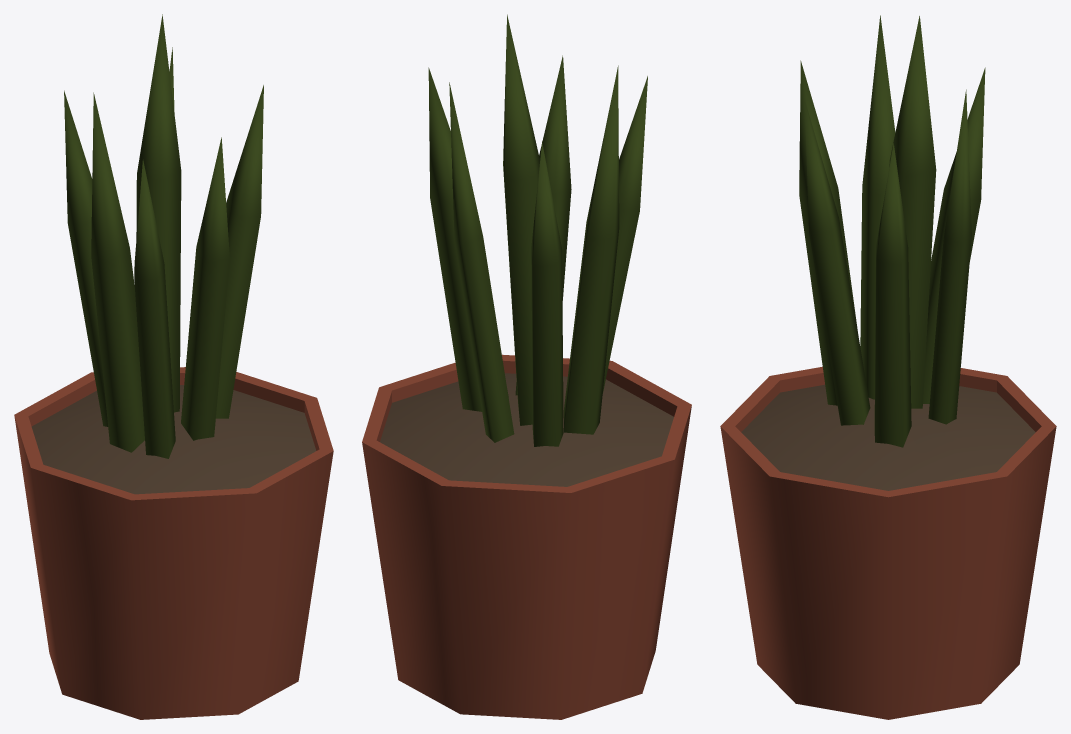
Rendered from flower1.FBX.
3 views of the same model, side by side, from view 1: azimuth 30°, elevation 25°; view 2: azimuth 150°, elevation 25°; view 3: azimuth 270°, elevation 25° (orthographic). The views are drawn at different scales.
Parts seen in each view (by area): view 1: flower1; view 2: flower1; view 3: flower1.
Part boxes in pixels (x1=…): flower1: x1=14, y1=14, x2=333, y2=719; flower1: x1=362, y1=14, x2=691, y2=719; flower1: x1=720, y1=15, x2=1056, y2=719.
Size of the model in its own units: 12.01 by 25.68 by 12.01.
Materials: 1 (1 with a texture image).
